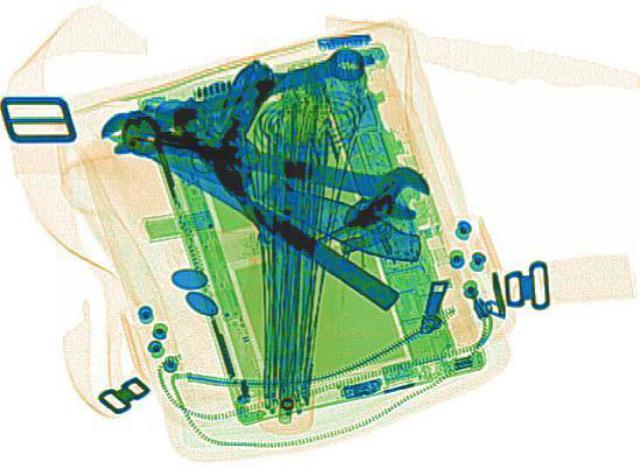Gun: (163, 54, 341, 234)
Knife: (108, 118, 404, 309), (130, 122, 432, 269)
Wrench: (115, 102, 439, 221), (87, 41, 376, 156)
